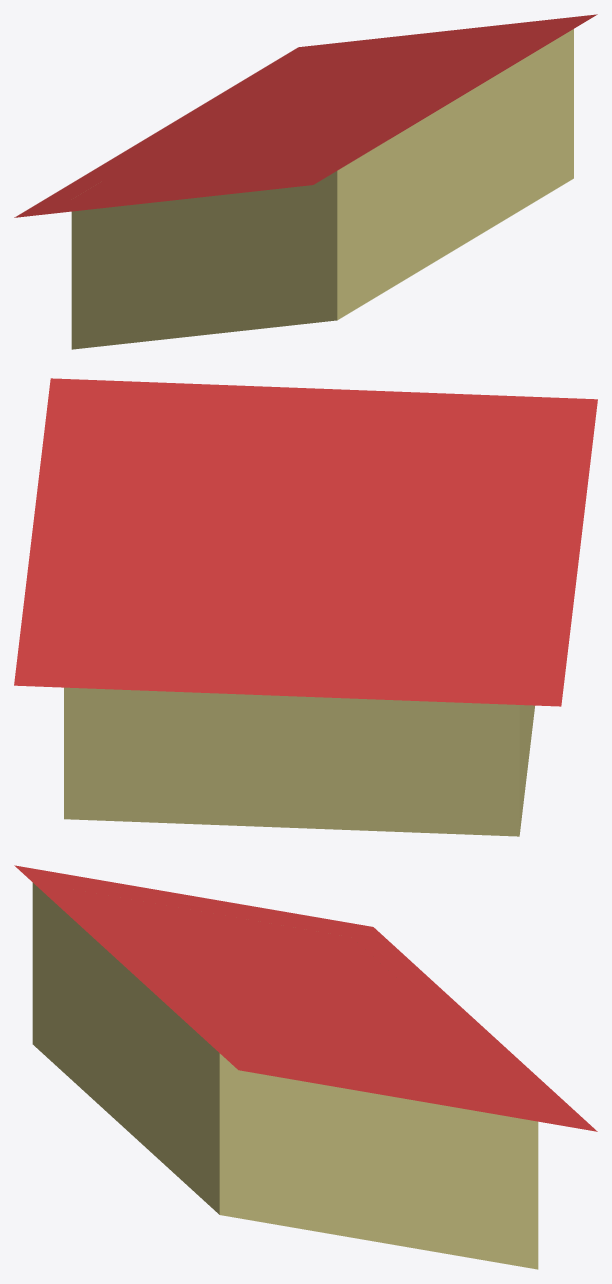
The picture shows the model from 3 angles, top to bottom: view 1: azimuth 30°, elevation 25°; view 2: azimuth 150°, elevation 25°; view 3: azimuth 270°, elevation 25°; orthographic projection. The views are drawn at different scales.
Bounding box in the file's own units: 10.89 × 9.76 × 5.14.
